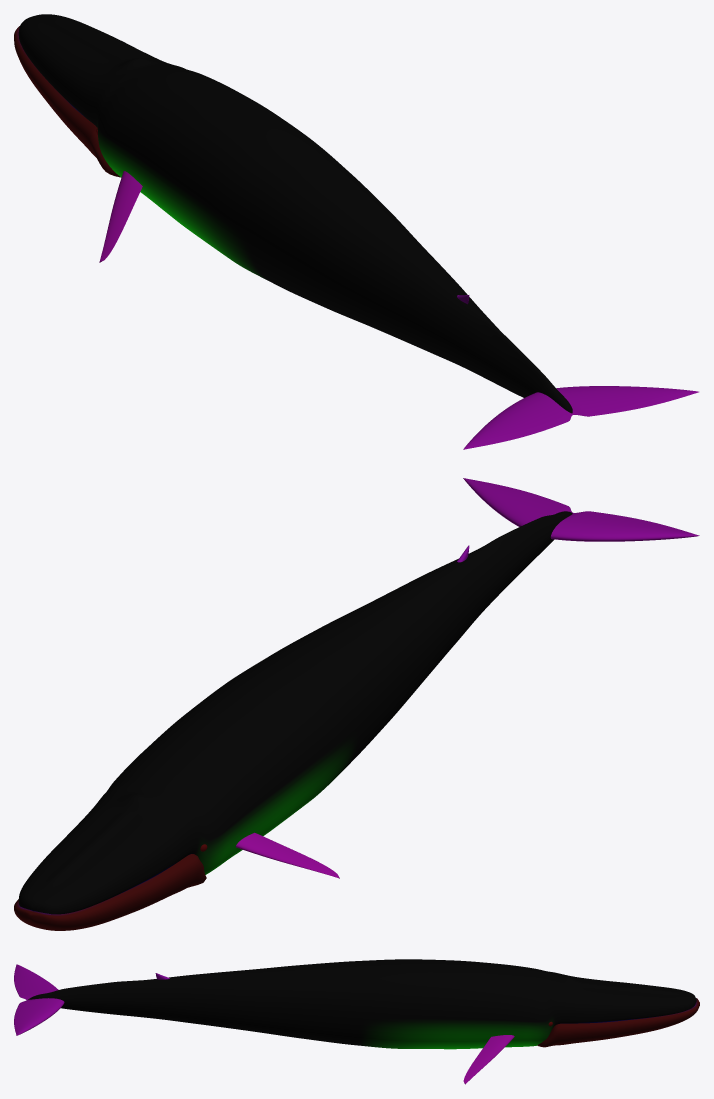
Rendered from blue_whale.glb.
The picture shows the model from 3 angles, top to bottom: view 1: azimuth 30°, elevation 25°; view 2: azimuth 150°, elevation 25°; view 3: azimuth 270°, elevation 25°; orthographic projection. The views are drawn at different scales.
Parts seen in each view (by area): view 1: blue_whale; view 2: blue_whale; view 3: blue_whale.
Part boxes in pixels (x1,y1,x2,y2): blue_whale: [14, 14, 698, 449]; blue_whale: [14, 478, 699, 930]; blue_whale: [14, 959, 699, 1084].
Bounding box in the file's own units: 6.35 × 3.41 × 25.27.
